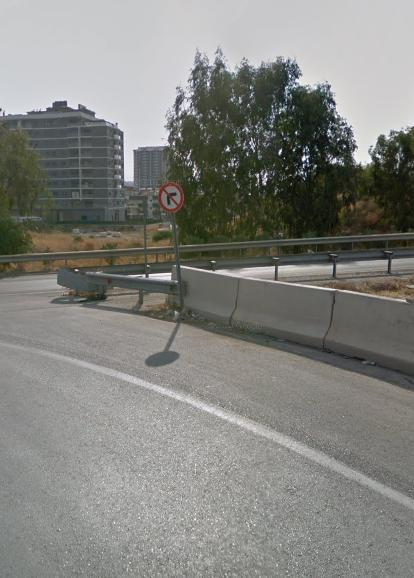rightturnsareforbidden: (158, 182, 186, 213)
